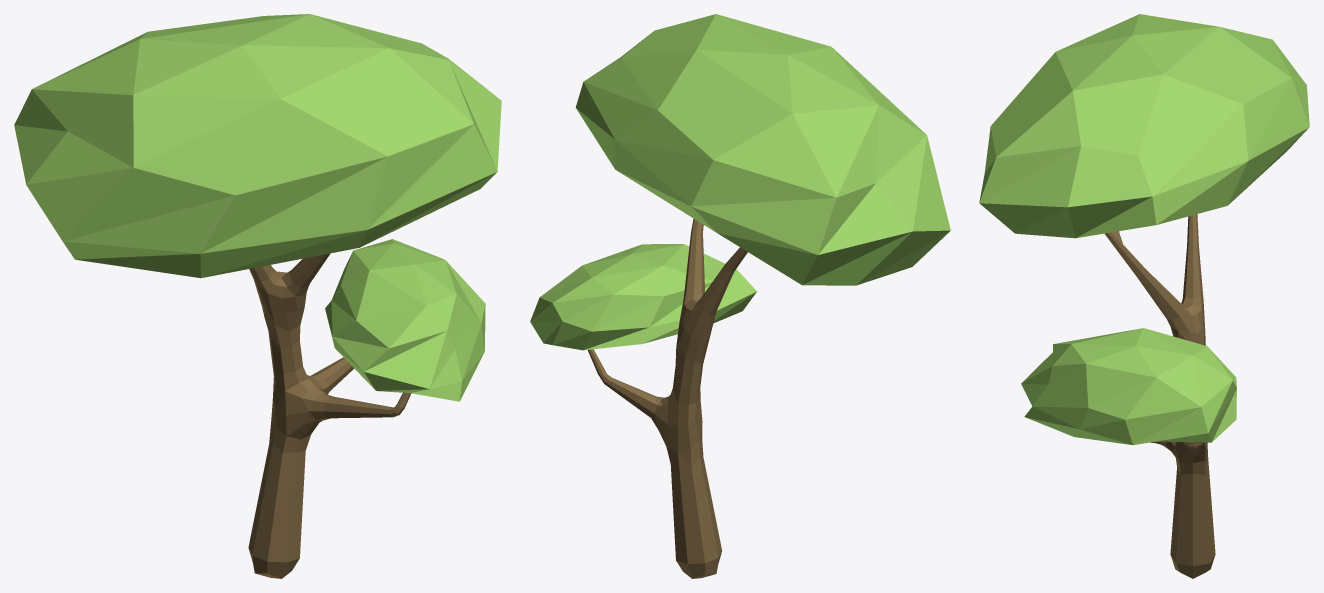
File: AssetsTree2.fbx
The picture shows the model from 3 angles, left to right: view 1: azimuth 30°, elevation 25°; view 2: azimuth 150°, elevation 25°; view 3: azimuth 270°, elevation 25°; orthographic projection. The views are drawn at different scales.
Visible parts, largest first — view 1: Икосфера.002; view 2: Икосфера.002; view 3: Икосфера.002.
Boxes of the visible parts, box(x1,y1,x2,y2) form: Икосфера.002: box(14, 14, 501, 578); Икосфера.002: box(530, 14, 950, 578); Икосфера.002: box(979, 14, 1309, 578).
Size of the model in its own units: 717 by 923 by 540.
